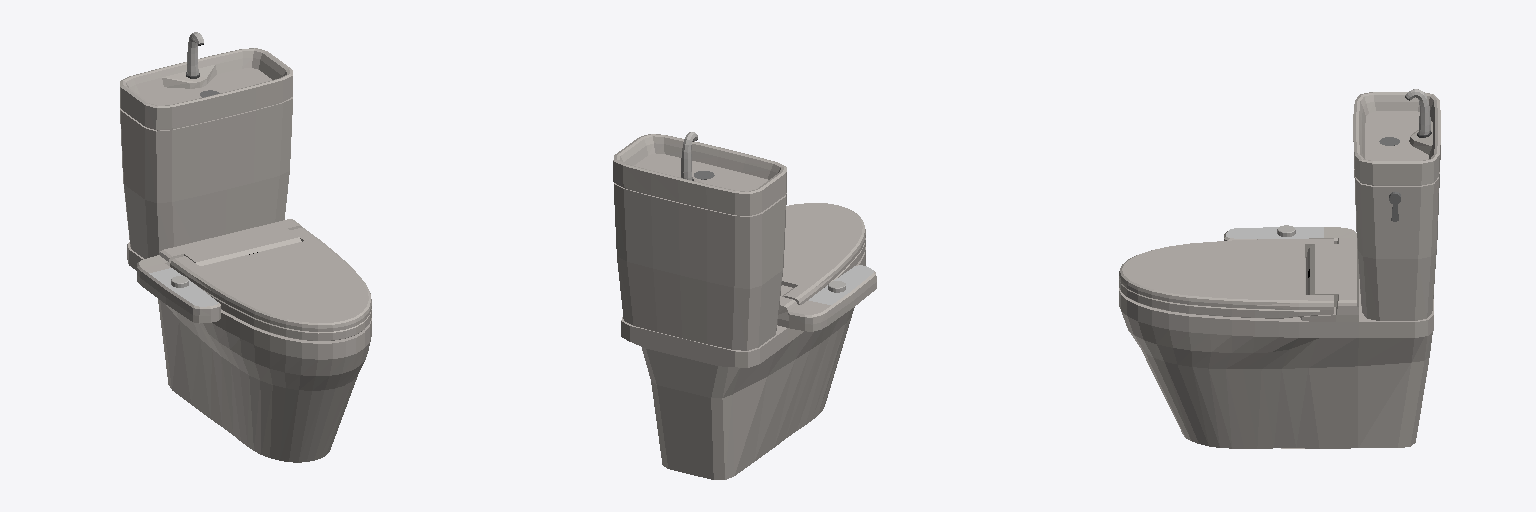
Rendered from japanese-toilet.obj.
The picture shows the model from 3 angles: view 1: azimuth 30°, elevation 25°; view 2: azimuth 150°, elevation 25°; view 3: azimuth 270°, elevation 25°; orthographic projection.
Parts seen in each view (by area): view 1: WaterContainer, Seat, sweethome3d_opening_on_hinge_1_Cover, BaseControlCommand, ArmControlCommand, sweethome3d_opening_on_hinge_2_SeatProtection, Tap; view 2: WaterContainer, Seat, sweethome3d_opening_on_hinge_1_Cover, ArmControlCommand; view 3: Seat, WaterContainer, sweethome3d_opening_on_hinge_1_Cover, BaseControlCommand, sweethome3d_opening_on_hinge_2_SeatProtection, ArmControlCommand, Tap.
Boxes of the visible parts, x1=… form: WaterContainer: x1=120, y1=48, x2=292, y2=258; Seat: x1=127, y1=242, x2=371, y2=462; sweethome3d_opening_on_hinge_1_Cover: x1=170, y1=228, x2=371, y2=331; BaseControlCommand: x1=159, y1=219, x2=302, y2=265; ArmControlCommand: x1=137, y1=255, x2=220, y2=323; sweethome3d_opening_on_hinge_2_SeatProtection: x1=199, y1=287, x2=371, y2=340; Tap: x1=186, y1=32, x2=203, y2=78; WaterContainer: x1=613, y1=134, x2=786, y2=350; Seat: x1=621, y1=247, x2=865, y2=479; sweethome3d_opening_on_hinge_1_Cover: x1=782, y1=203, x2=865, y2=304; ArmControlCommand: x1=788, y1=265, x2=876, y2=331; Seat: x1=1119, y1=279, x2=1433, y2=448; WaterContainer: x1=1353, y1=92, x2=1440, y2=320; sweethome3d_opening_on_hinge_1_Cover: x1=1119, y1=238, x2=1333, y2=314; BaseControlCommand: x1=1300, y1=238, x2=1358, y2=321; sweethome3d_opening_on_hinge_2_SeatProtection: x1=1119, y1=252, x2=1319, y2=318; ArmControlCommand: x1=1224, y1=227, x2=1356, y2=243; Tap: x1=1405, y1=89, x2=1431, y2=137.
Bounding box in the file's own units: 52.73 × 98 × 83.61.